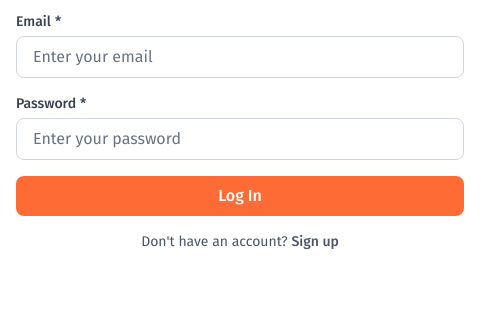
Test: LoginForm Component › Validation › should display error when email is empty
This screenshot has width=481, height=314.
Click the button "Log In". click: point(240, 196)
box: [16,176,464,216]
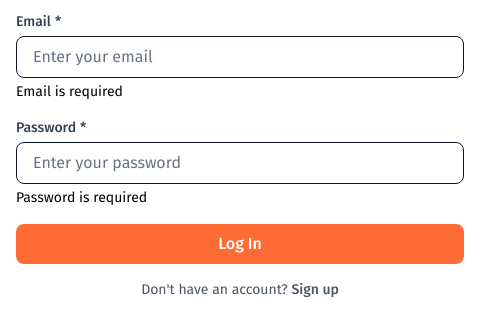
Now the text "Email is required" is shown, box [16,83,123,100]
